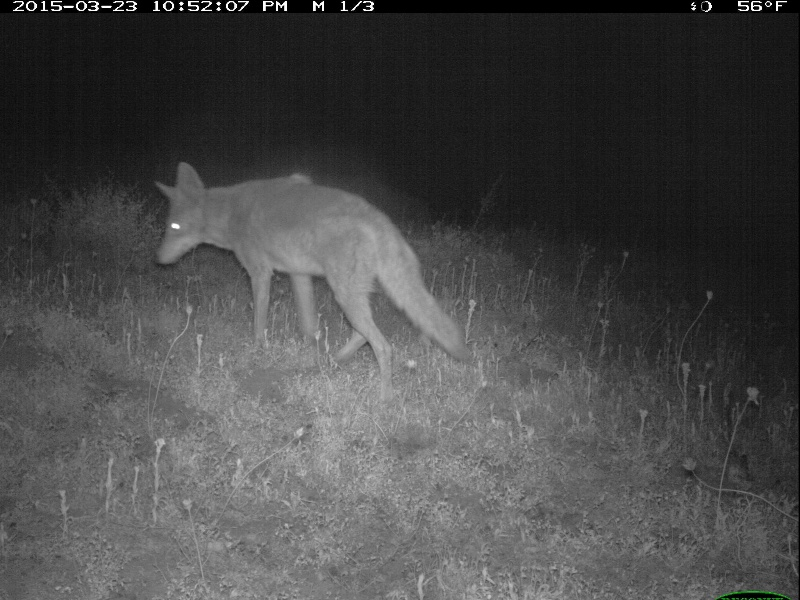coyote: (153, 162, 477, 375)
